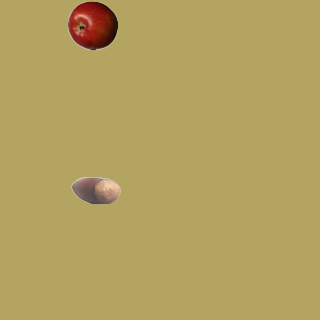Apple Braeburn: (67, 0, 117, 50)
Hazelnut: (70, 165, 120, 215)
